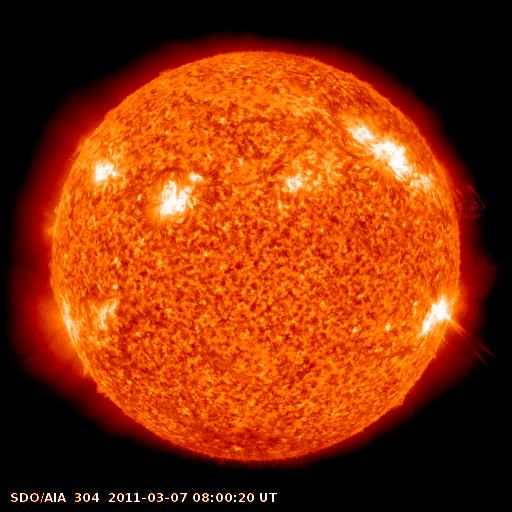prominence: (442, 164, 502, 235)
